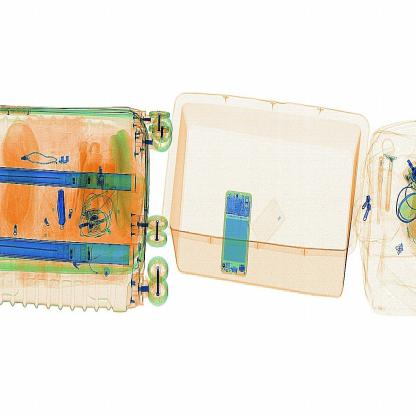knife: (56, 172, 80, 239)
